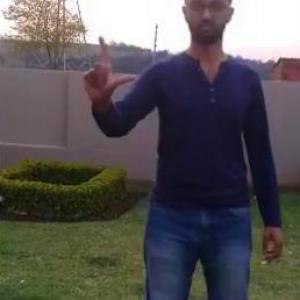land_hand: (78, 31, 138, 105)
